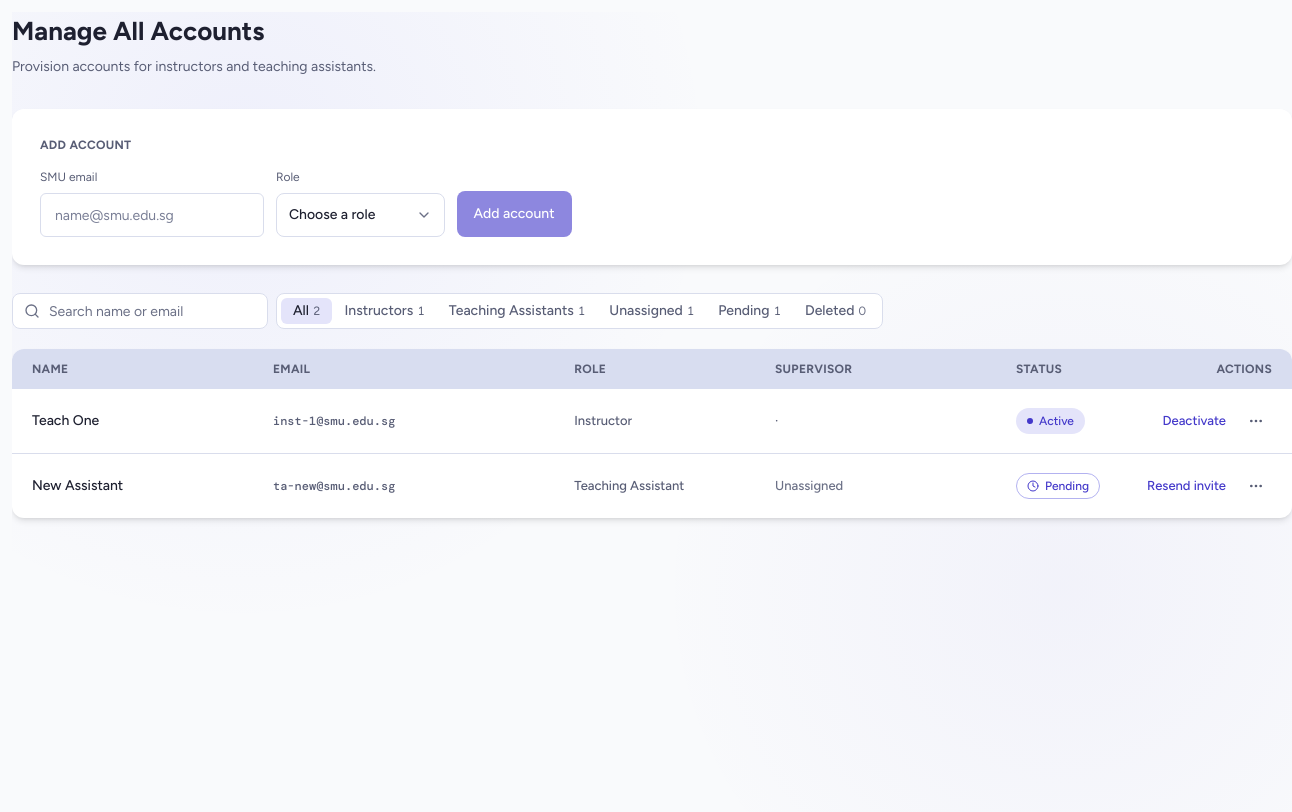
Test: UsersPage - pending invites › moves Deactivate into the menu on a pending row
The image size is (1292, 812).
Click the button named "More actions for New Assistant".
click(1256, 486)  # box [1240,470,1272,502]
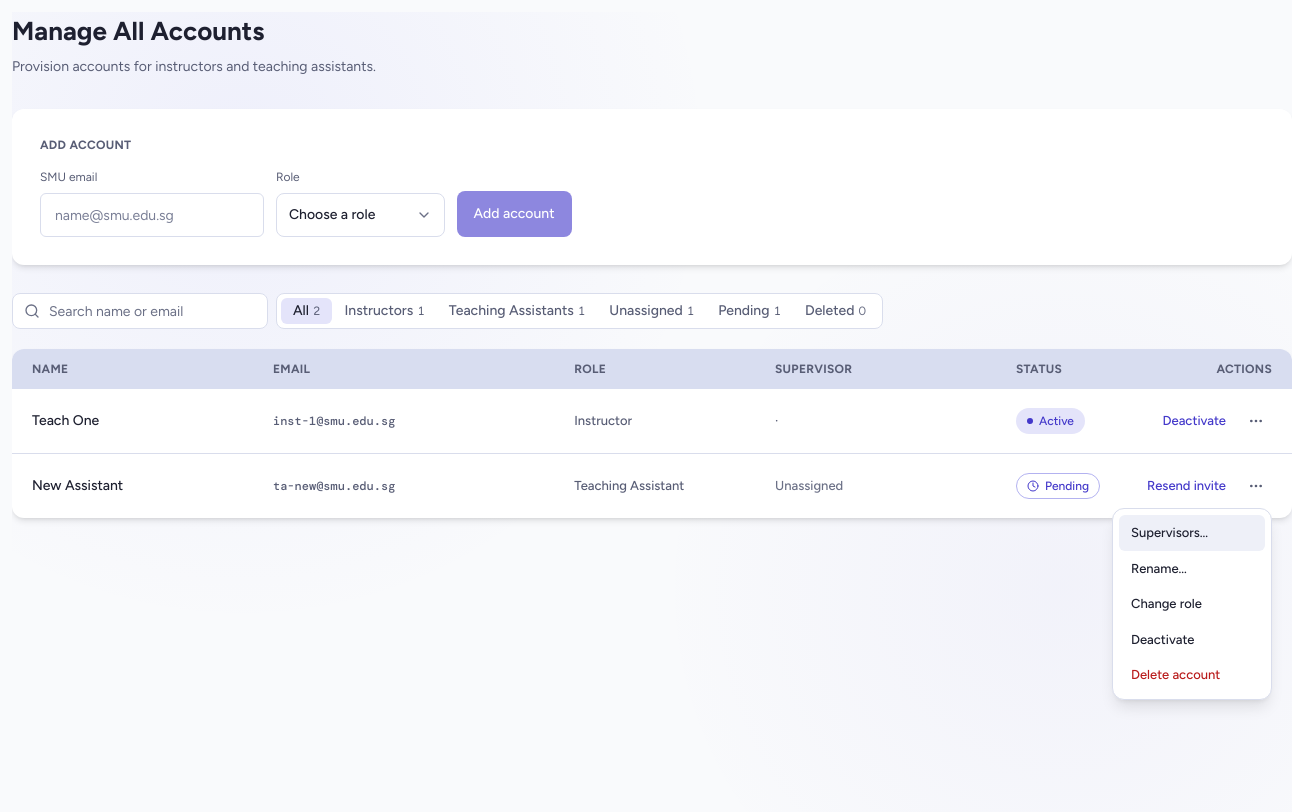
expect the menu item "Deactivate" is shown: met, box [1119,622,1265,657]
